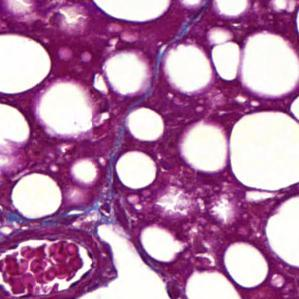steatosis: (231, 102, 299, 190), (0, 33, 53, 95), (12, 170, 63, 219), (225, 240, 270, 290), (91, 0, 172, 21), (115, 152, 157, 189)
